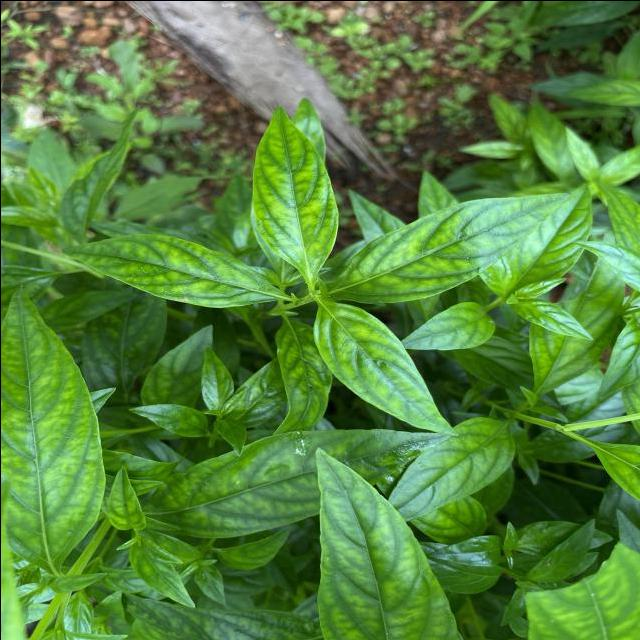Andrographis paniculata: (143, 427, 453, 540), (0, 284, 106, 570), (330, 190, 570, 306), (312, 297, 458, 436), (59, 230, 288, 310), (250, 104, 340, 282), (387, 416, 515, 522), (398, 300, 496, 352), (511, 297, 594, 340), (106, 466, 146, 530)
